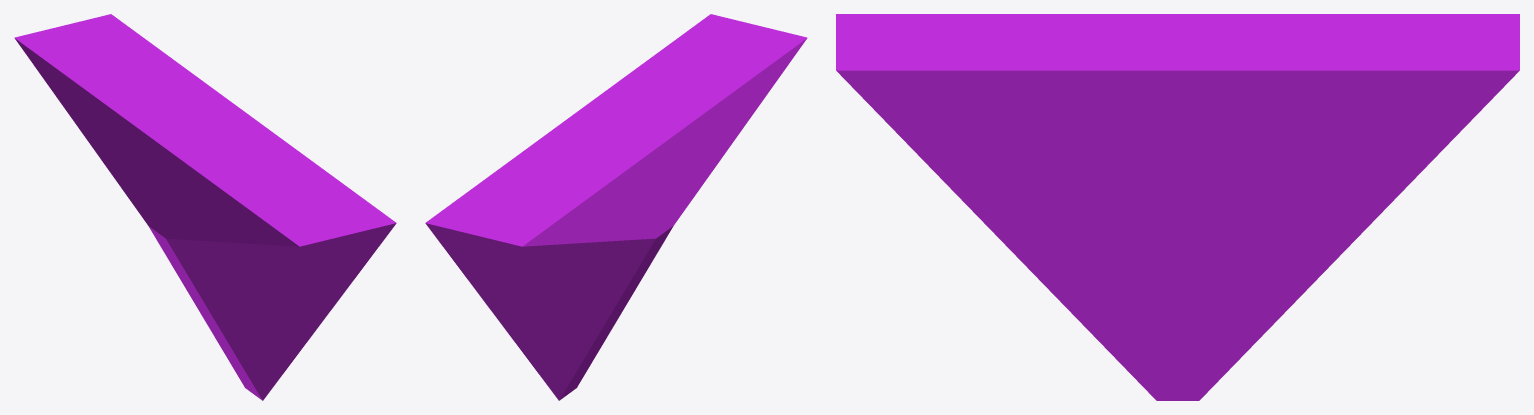
File: Palhaço cubismo body.fbx
3 views of the same model, side by side, from view 1: azimuth 30°, elevation 25°; view 2: azimuth 150°, elevation 25°; view 3: azimuth 270°, elevation 25° (orthographic). The views are drawn at different scales.
Visible parts, largest first — view 1: Cube.001; view 2: Cube.001; view 3: Cube.001.
Boxes of the visible parts, x1,y1,x2,y2 form: Cube.001: (14, 14, 396, 400); Cube.001: (425, 14, 807, 400); Cube.001: (836, 14, 1519, 400).
Bounding box in the file's own units: 38.87 × 106 × 198.
